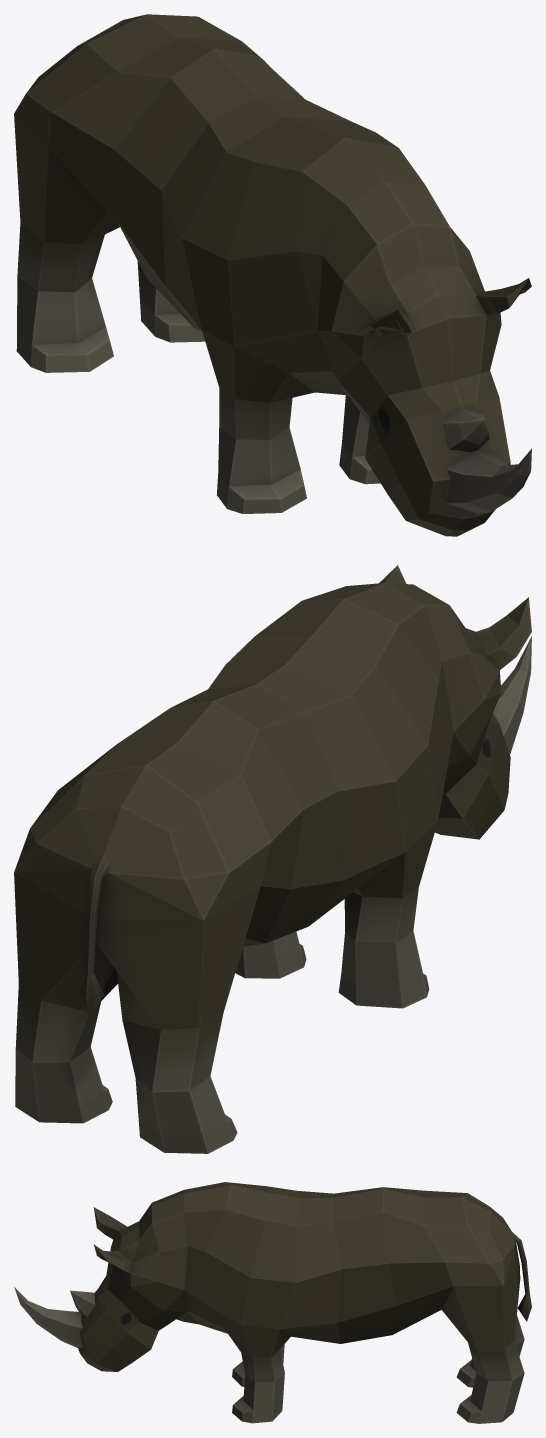
The model's file is 56cd59f1-b954-400e-ac54-fae7b671b6e8.glb.
3 renders of one model, top to bottom at view 1: azimuth 30°, elevation 25°; view 2: azimuth 150°, elevation 25°; view 3: azimuth 270°, elevation 25°, orthographic. The views are drawn at different scales.
Visible parts, largest first — view 1: Rhinoceros_mesh; view 2: Rhinoceros_mesh; view 3: Rhinoceros_mesh.
Part boxes in pixels (x1=…): Rhinoceros_mesh: x1=14, y1=14, x2=531, y2=536; Rhinoceros_mesh: x1=14, y1=565, x2=531, y2=1153; Rhinoceros_mesh: x1=14, y1=1182, x2=531, y2=1423.
Size of the model in its own units: 6.89 by 10.91 by 24.43.
1 material, 1 textured.
